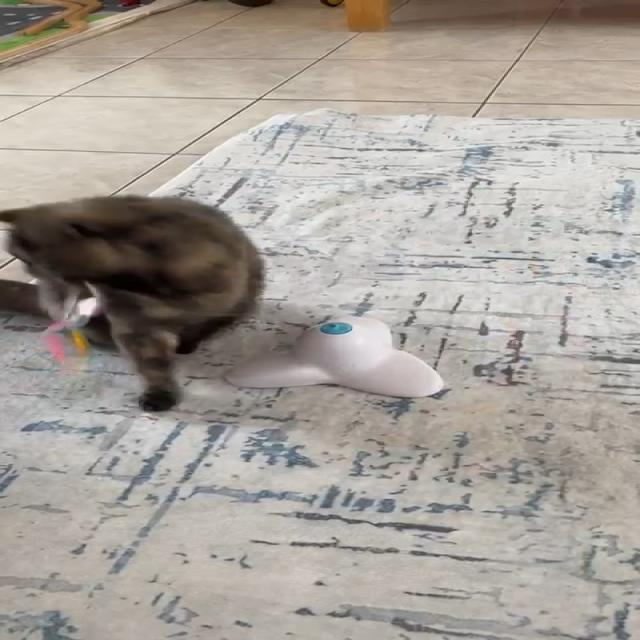authorized: (0, 193, 265, 412)
